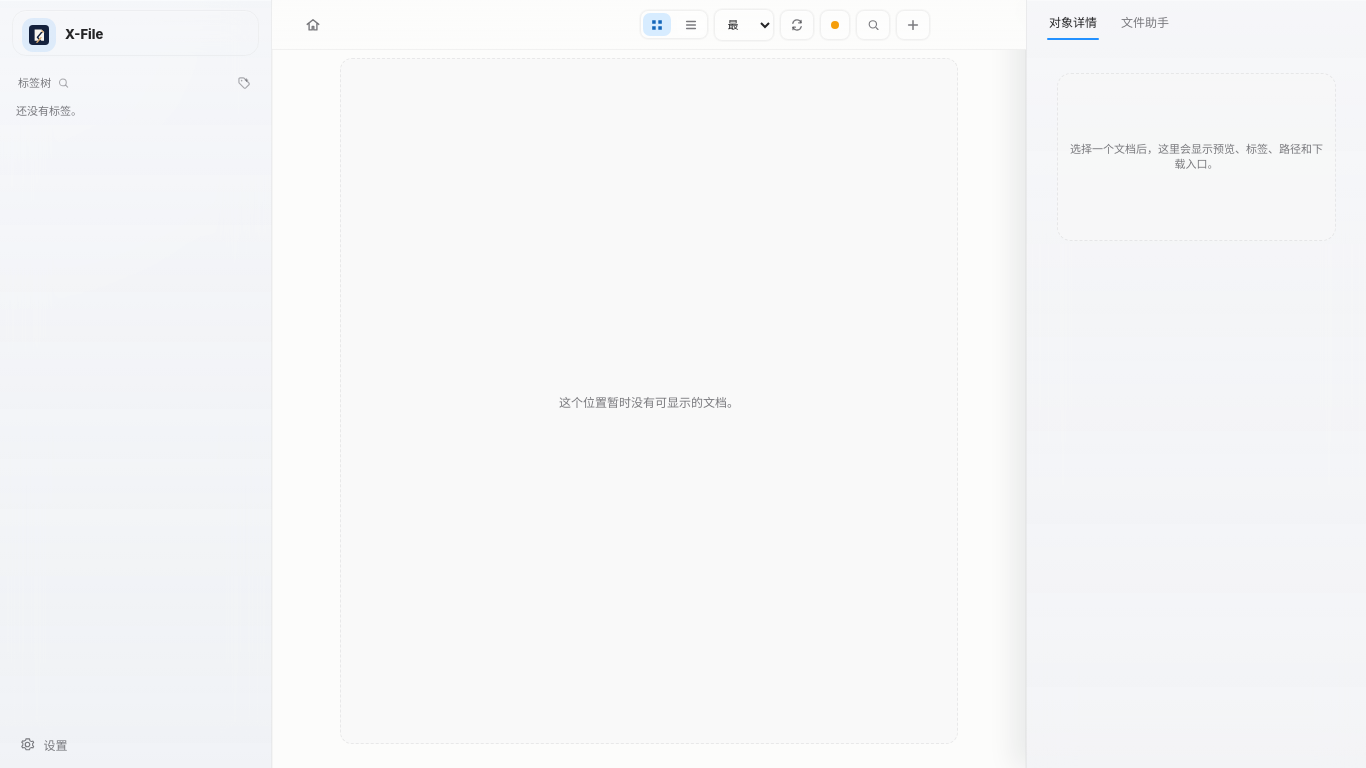
Test: 第 6 批：索引状态、刷新策略和缓存替换 › 索引状态指示灯悬浮后显示详情、当前阶段、导出阶段、进度和可滚动技术详情
Expected: the text "文档库索引器状态" is not shown
Hover over the button named "索引状态：正在刷新": {"x": 835, "y": 24} [823,12,847,38]
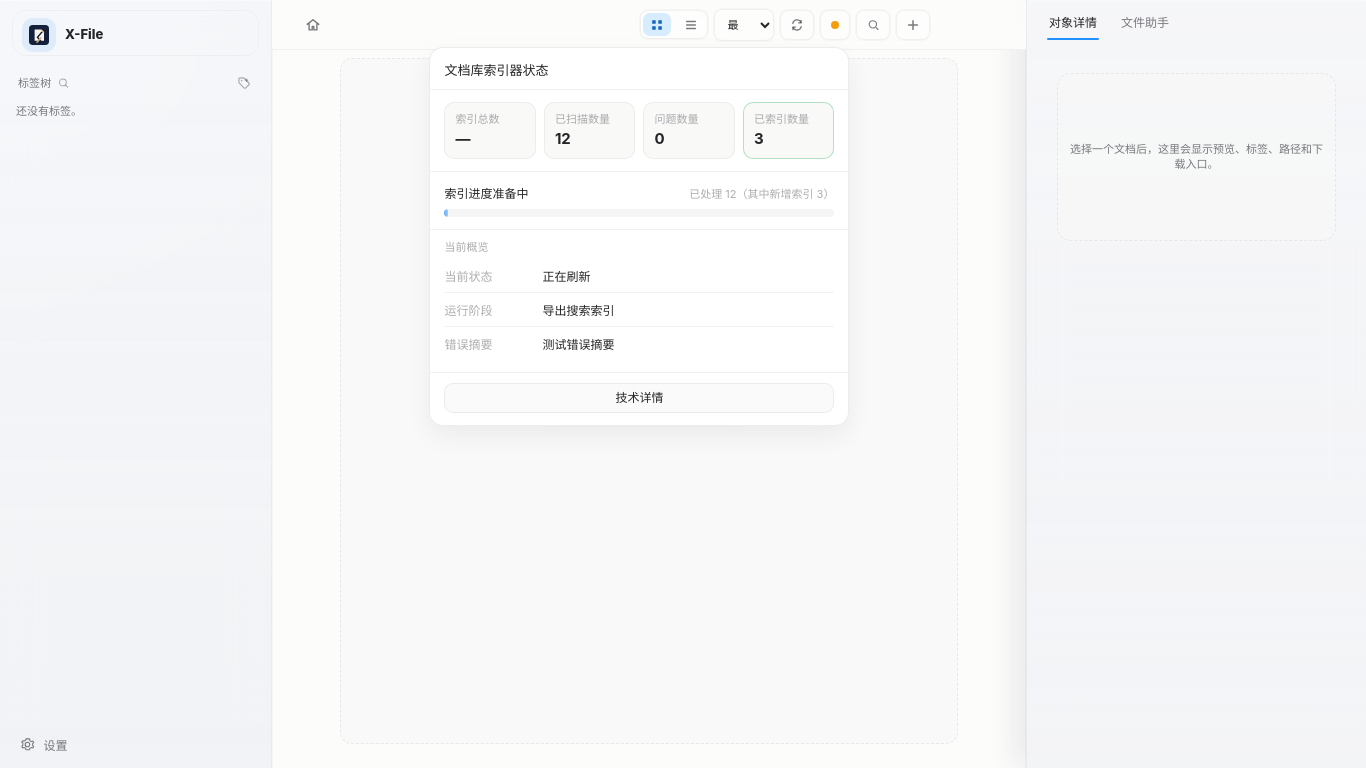
Expected: the text "当前状态" is shown, [444,269,492,284]
Expected: the text "正在刷新" is shown, [542,269,590,284]
Expected: the text "运行阶段" is shown, [444,303,492,318]
Click the button "技术详情": {"x": 639, "y": 398} [444,383,834,413]
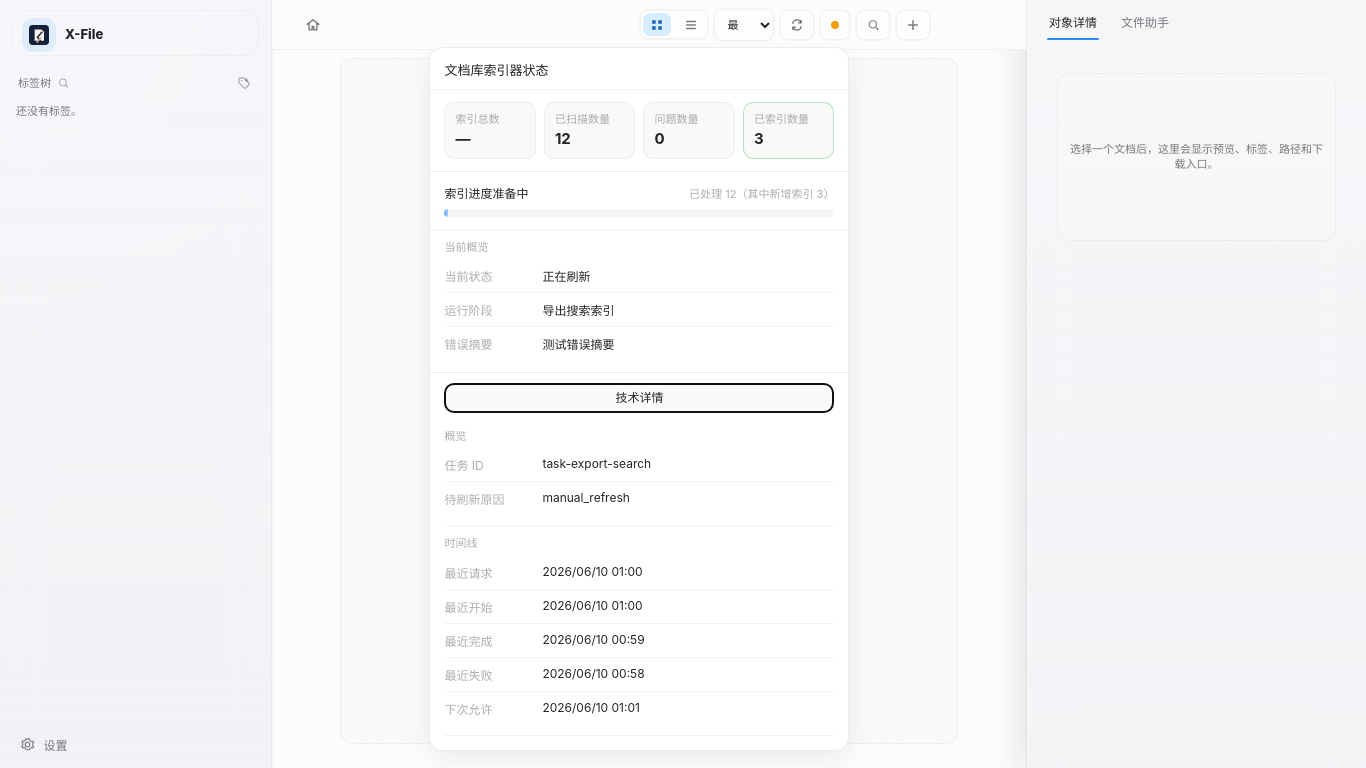
Expected: the text "最近完成" is shown, [444,634,492,649]
